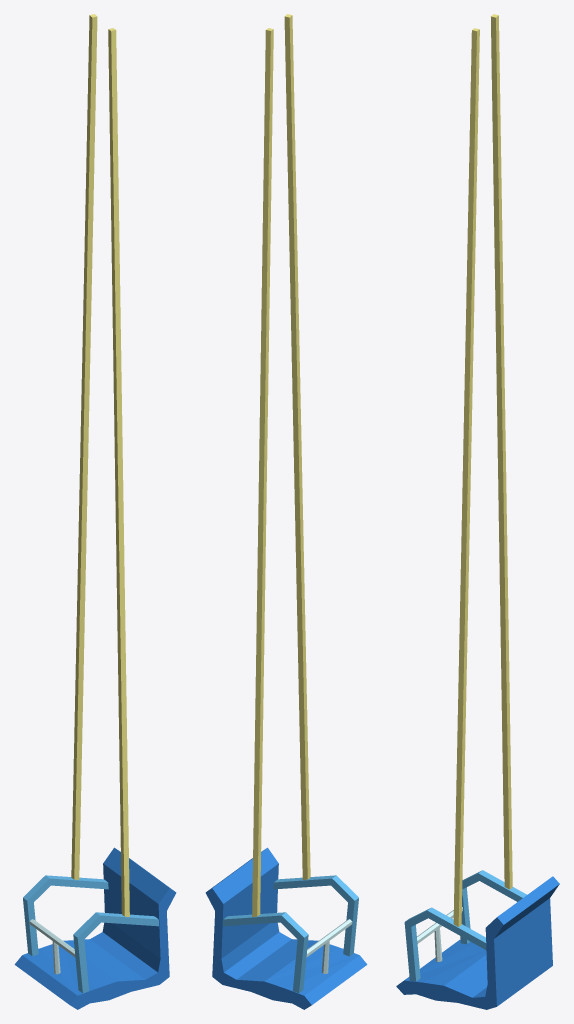
Rendered from Swing_Chair.fbx.
3 renders of one model, left to right at view 1: azimuth 30°, elevation 25°; view 2: azimuth 150°, elevation 25°; view 3: azimuth 330°, elevation 25°, orthographic.
Visible parts, largest first — view 1: Line023; view 2: Line023; view 3: Line023.
Boxes of the visible parts, x1=… form: Line023: x1=14, y1=14, x2=176, y2=1009; Line023: x1=205, y1=14, x2=367, y2=1009; Line023: x1=396, y1=14, x2=559, y2=1009.
Size of the model in its own units: 66.18 by 566 by 59.72.
